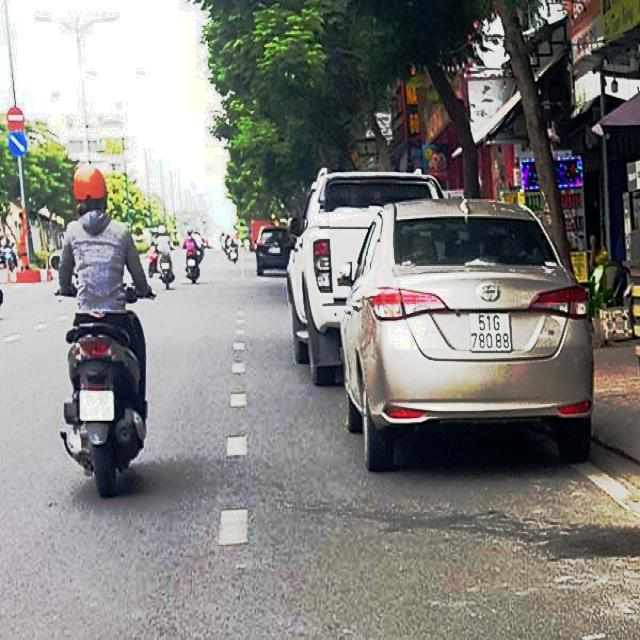license_plate: (470, 313, 513, 352), (79, 390, 115, 423)
